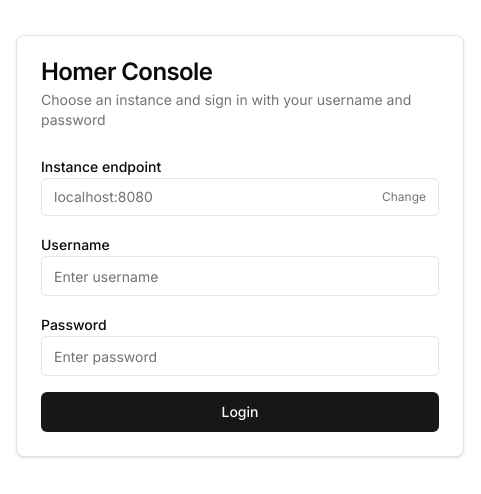
Test: LoginPage › rejects an off-allowlist endpoint on submit and does not log in
Click the button with aria-label "change instance endpoint".
click(103, 196)  # box [41,178,439,216]
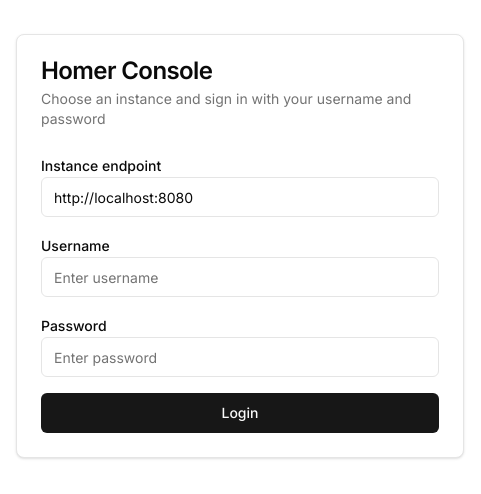
Replace the text in the field labelled "Instance endpoint" with "https://attacker.example" at (240, 197), box [41,177,439,217]
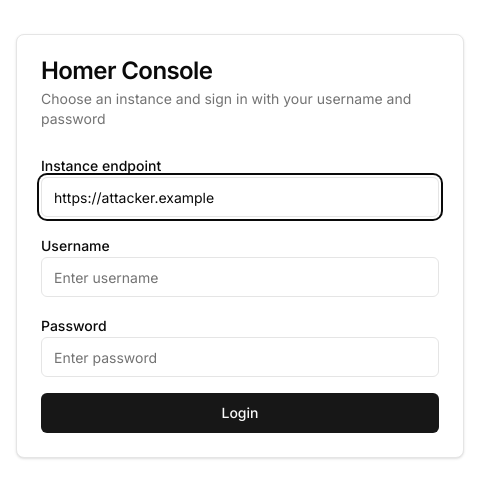
Type "alice" into the field labelled "Username".
click(240, 277); type("alice")  # box [41,257,439,297]
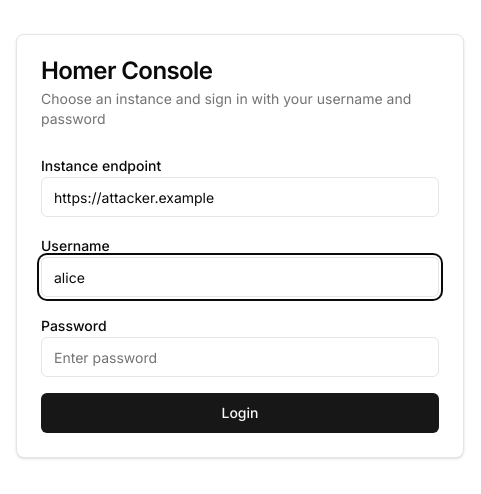
Type "pw" into the password field labelled "Password".
click(240, 357); type("pw")  # box [41,337,439,377]
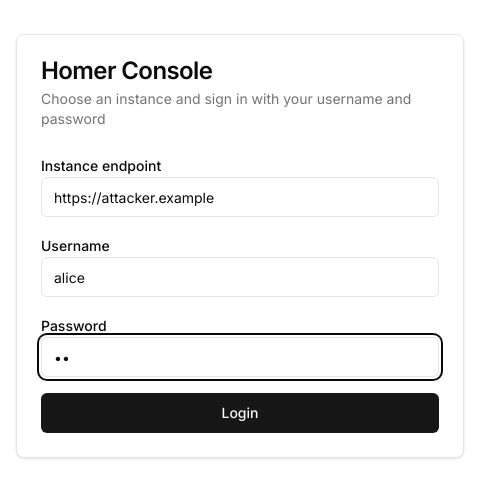
Click the button "Login".
click(240, 413)  # box [41,393,439,433]
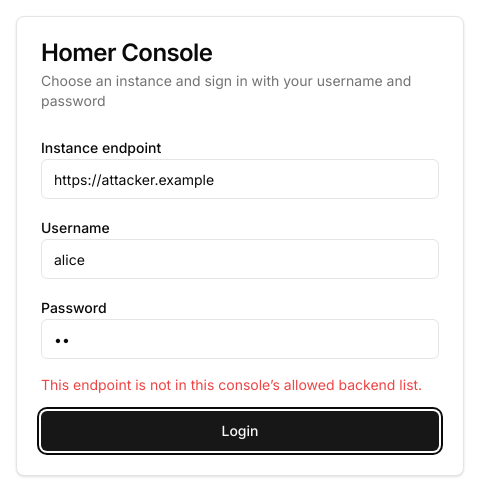
Expected: the text "This endpoint is not in this console’s allowed backend list." is shown, [41,375,439,395]
